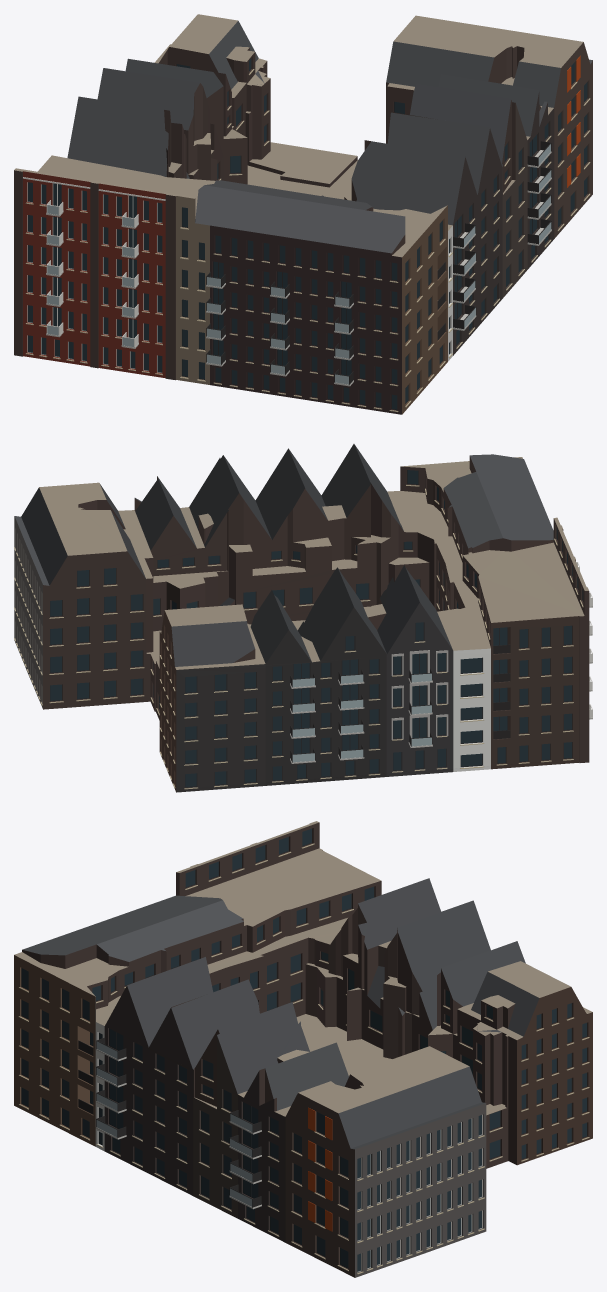
Rendered from recipe-large-wiborgeiland-247551.glb.
3 renders of one model, top to bottom at view 1: azimuth 30°, elevation 25°; view 2: azimuth 150°, elevation 25°; view 3: azimuth 270°, elevation 25°, orthographic. The views are drawn at different scales.
Visible parts, largest first — view 1: wiborgeiland-247551; view 2: wiborgeiland-247551; view 3: wiborgeiland-247551.
Part boxes in pixels (bbox=[...]): wiborgeiland-247551: bbox=[14, 14, 592, 414]; wiborgeiland-247551: bbox=[14, 444, 592, 792]; wiborgeiland-247551: bbox=[14, 821, 592, 1277].
Size of the model in its own units: 72.24 by 21.46 by 63.16.
